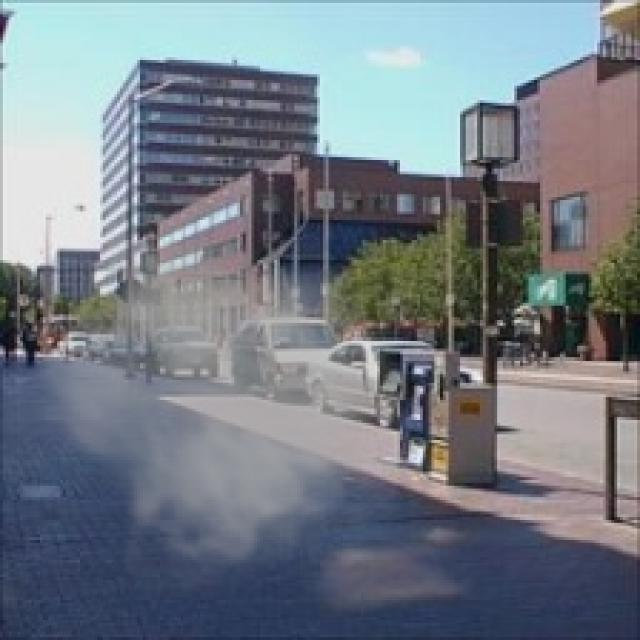smoke: (23, 240, 426, 606)
